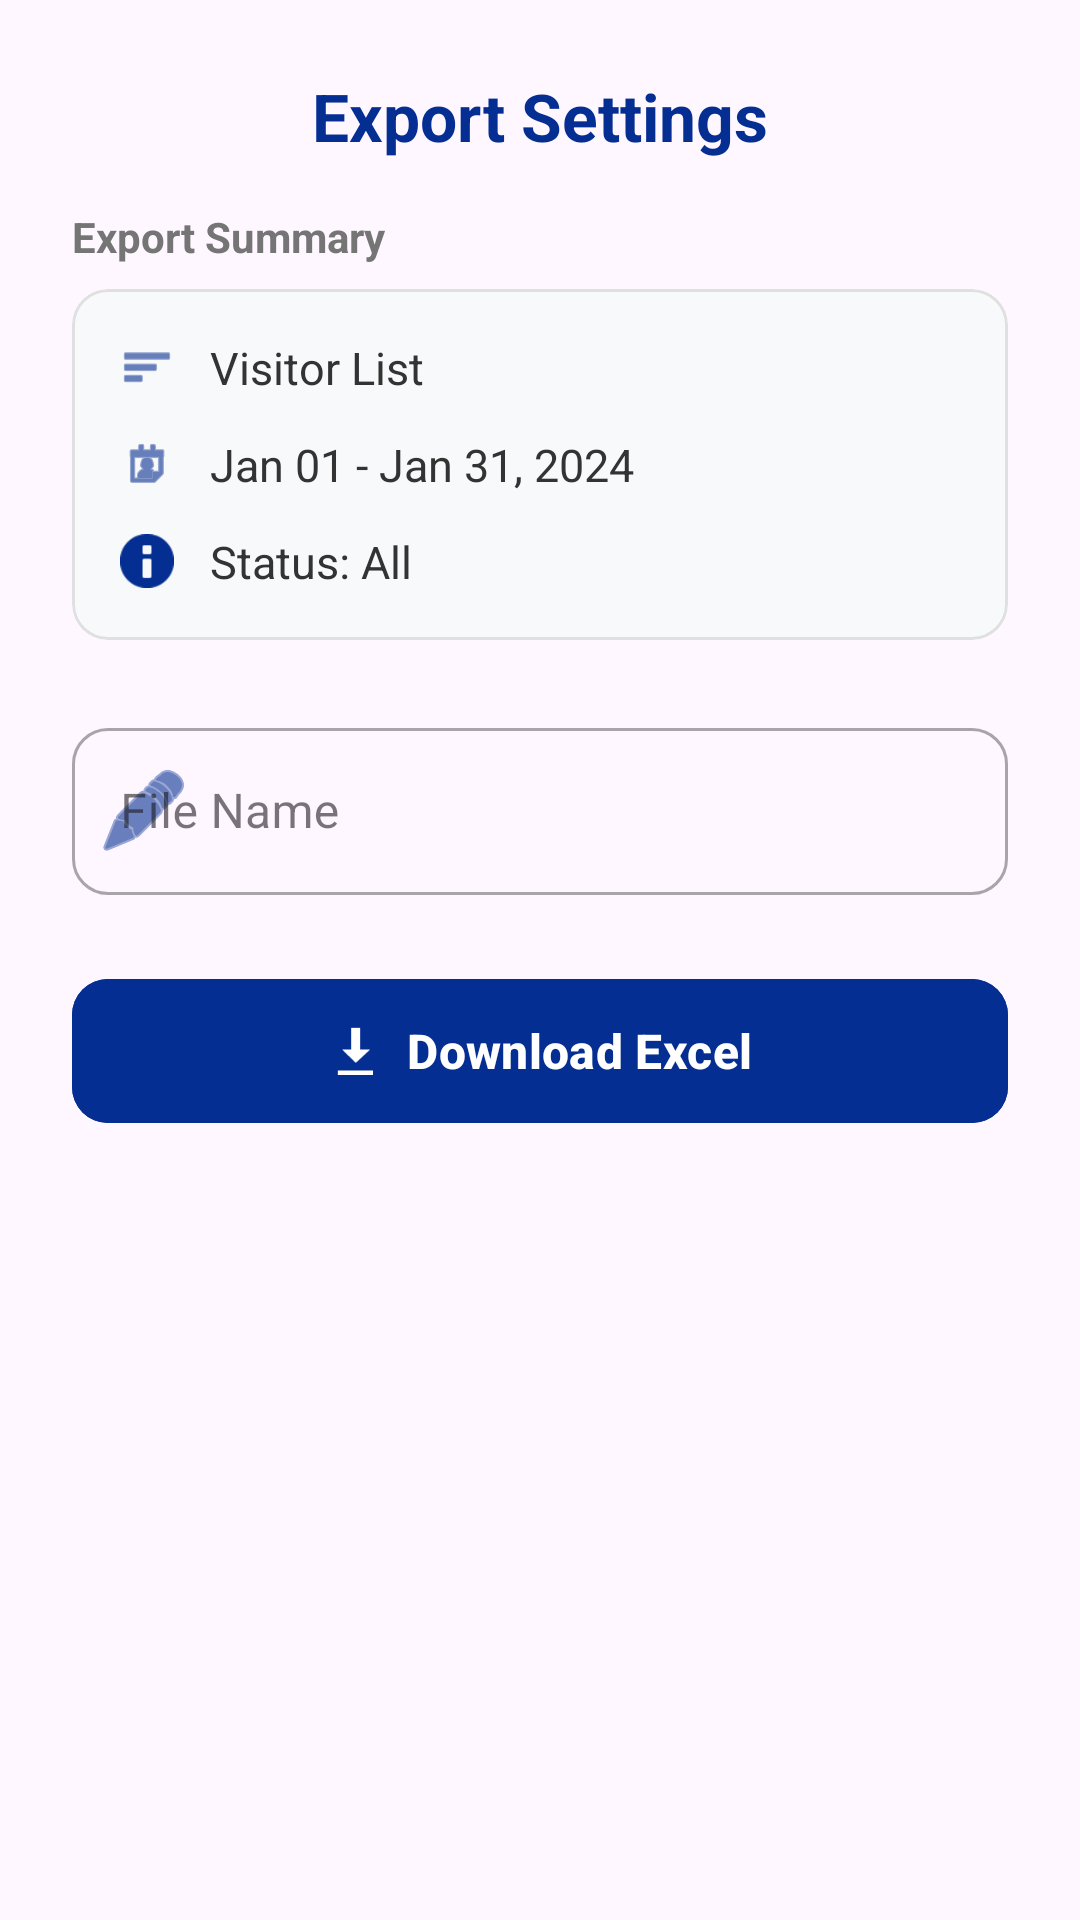

Named icons in this screenshot (1080px×1920px) and their centers, [x,y]:
calendar: [147,463]
info: [147,561]
sort by size: [147,367]
